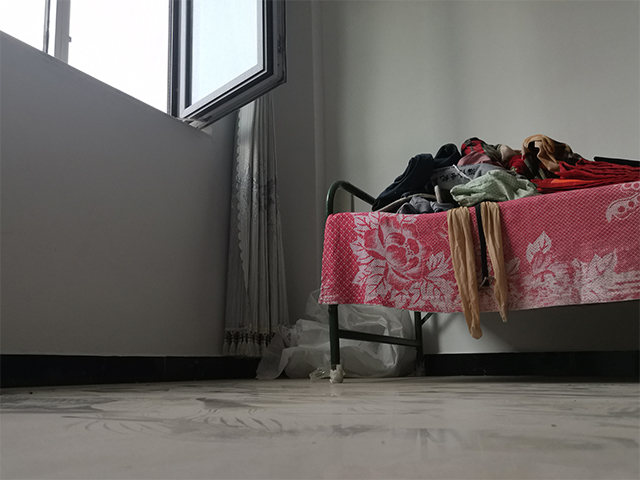bed: (323, 176, 640, 385)
curtain: (218, 87, 286, 361)
